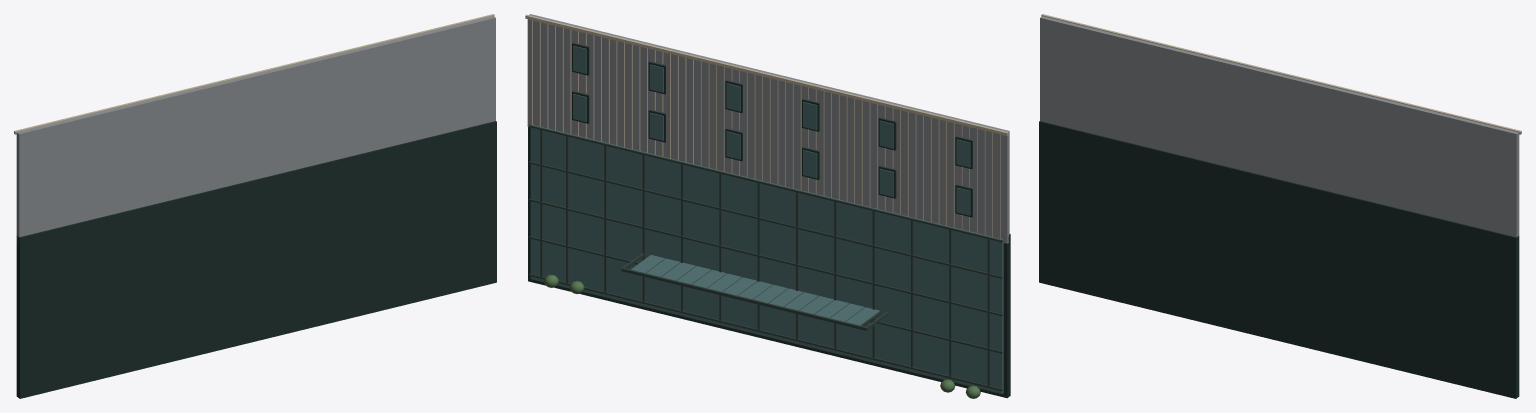
The model's file is tykeson-canopy-cladding-overlay-2026-11-10.glb.
3 renders of one model, left to right at view 1: azimuth 30°, elevation 25°; view 2: azimuth 150°, elevation 25°; view 3: azimuth 330°, elevation 25°, orthographic.
Visible parts, largest first — view 1: tykeson-part-0; view 2: tykeson-part-0, tykeson-part-1; view 3: tykeson-part-0.
Part boxes in pixels (x1,y1,x2,y2): tykeson-part-0: [14, 14, 496, 398]; tykeson-part-0: [525, 14, 1010, 398]; tykeson-part-1: [544, 274, 980, 398]; tykeson-part-0: [1039, 14, 1521, 398].
Size of the model in its own units: 37.7 by 20.21 by 3.55.
